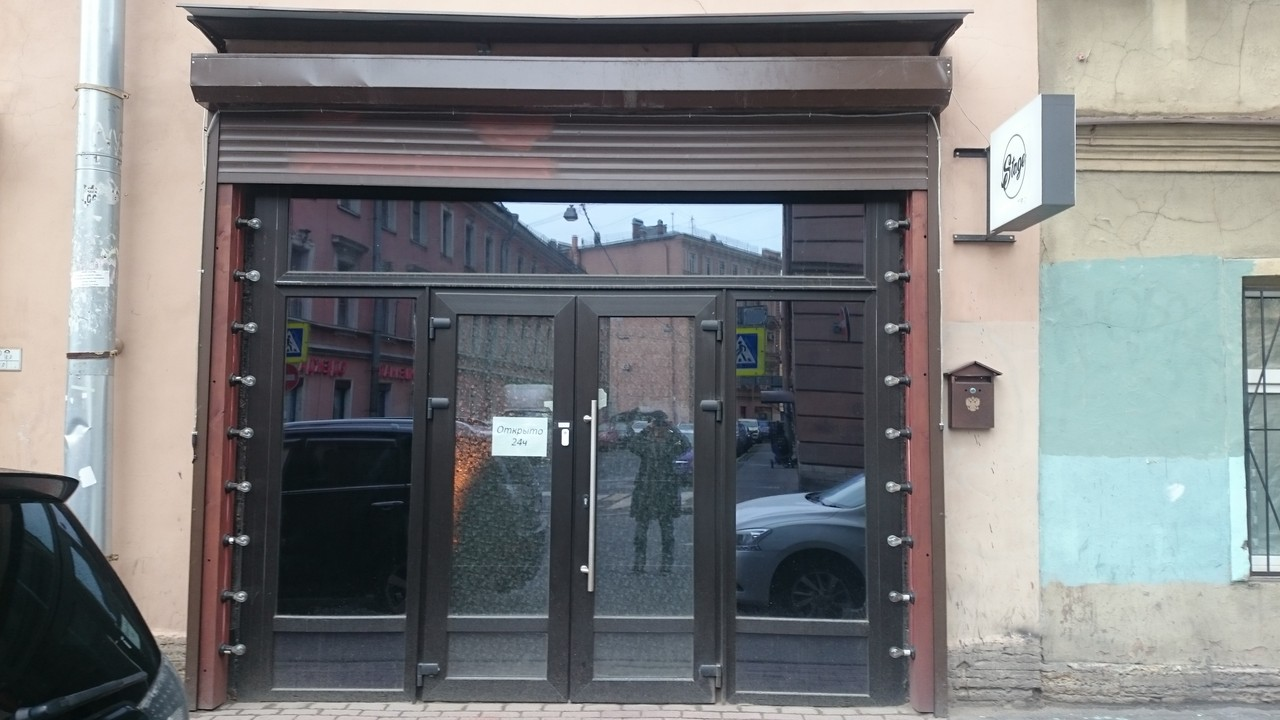cantilever: (961, 91, 1074, 236)
door: (430, 291, 718, 707)
window: (727, 288, 872, 707), (279, 288, 416, 702), (286, 193, 875, 285)
